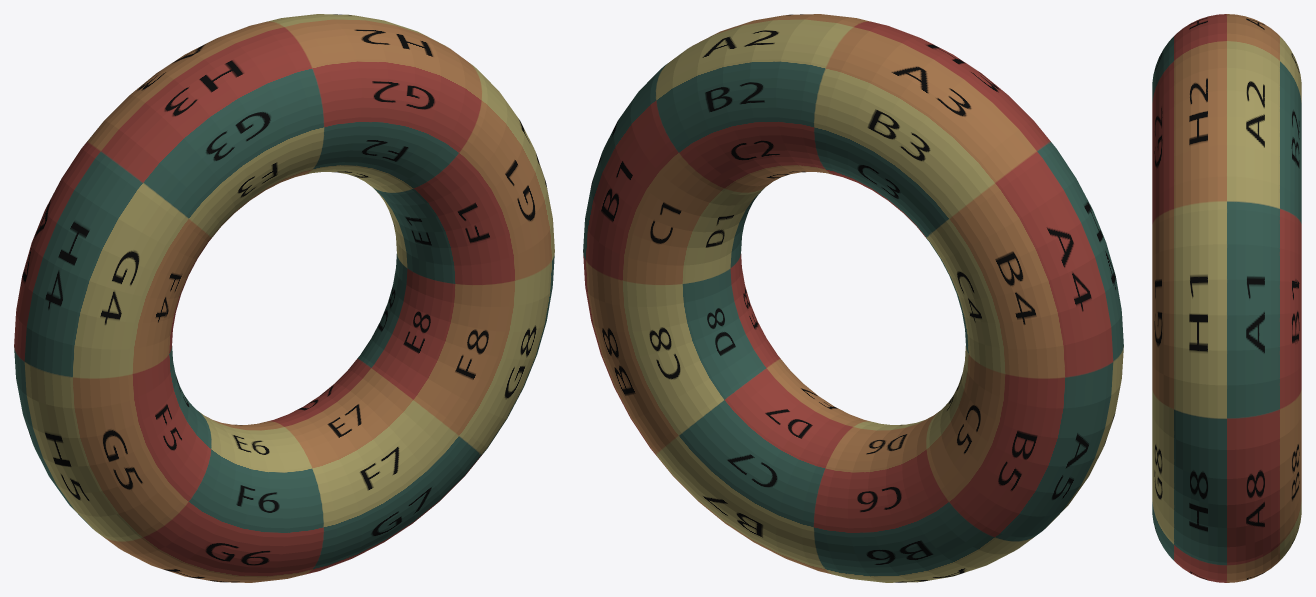
File: texture_torus_R18_r22.glb
3 renders of one model, left to right at view 1: azimuth 30°, elevation 25°; view 2: azimuth 150°, elevation 25°; view 3: azimuth 270°, elevation 25°, orthographic. The views are drawn at different scales.
Visible parts, largest first — view 1: world; view 2: world; view 3: world.
Part boxes in pixels (x1=…): world: x1=14, y1=14, x2=554, y2=582; world: x1=583, y1=14, x2=1123, y2=582; world: x1=1152, y1=14, x2=1301, y2=582.
Size of the model in its own units: 29.87 by 29.81 by 7.85.
1 material, 1 textured.
